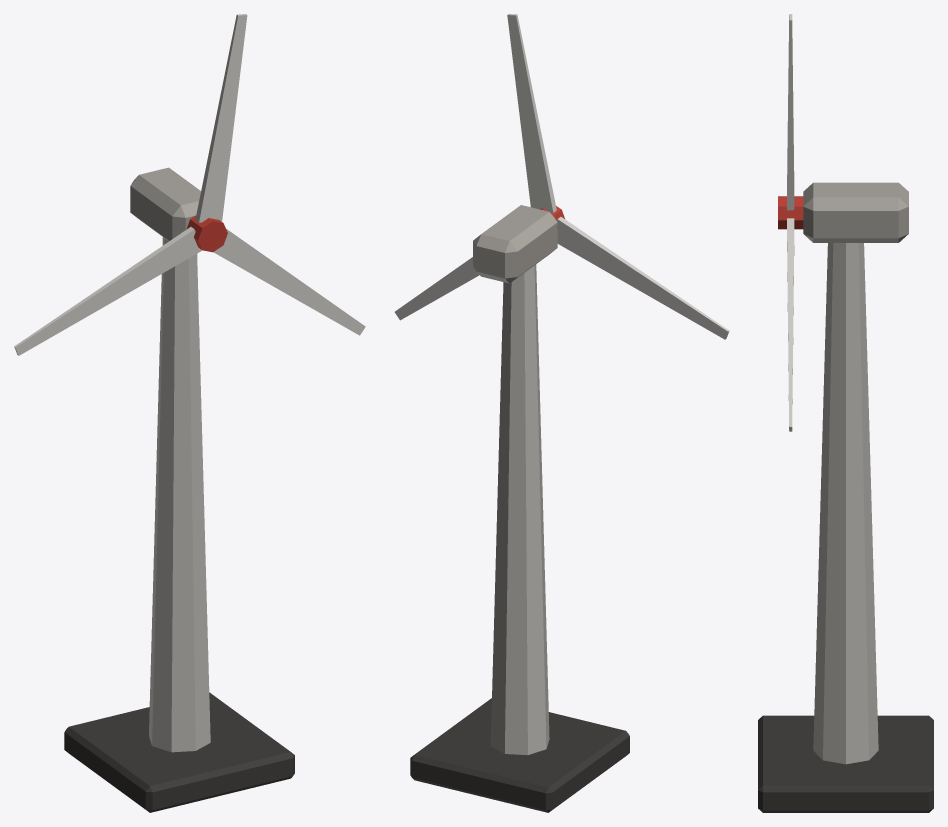
Rendered from windturbine.fbx.
3 views of the same model, side by side, from view 1: azimuth 30°, elevation 25°; view 2: azimuth 150°, elevation 25°; view 3: azimuth 270°, elevation 25° (orthographic). The views are drawn at different scales.
Visible parts, largest first — view 1: windturbine; view 2: windturbine; view 3: windturbine.
Part boxes in pixels (x1=…): windturbine: x1=14, y1=14, x2=365, y2=812; windturbine: x1=394, y1=14, x2=729, y2=812; windturbine: x1=758, y1=14, x2=933, y2=812.
Bounding box in the file's own units: 4.93 × 10.26 × 2.1.
